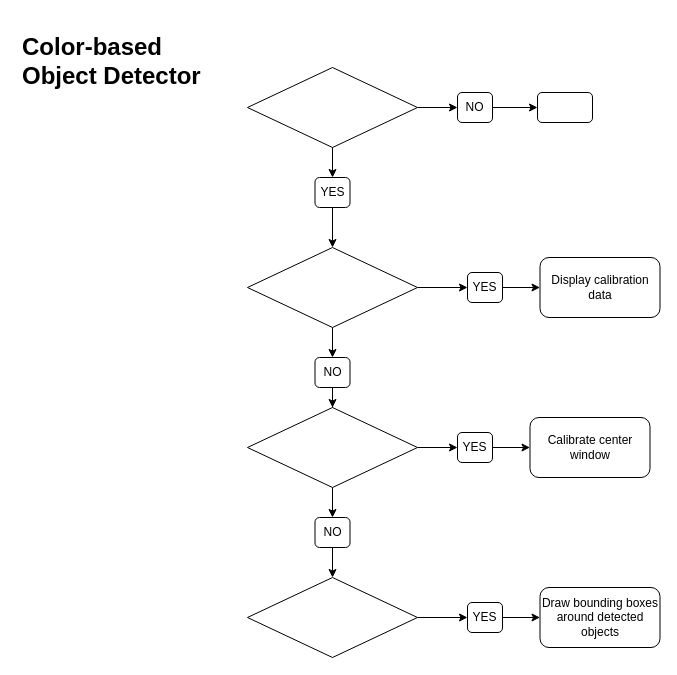
The diagram is 677 pixels wide and 675 high, and some of its shapes have lost their labels. The shapes that lost their labels are listed below. From the top down, each one's centre as x and y in pixels, then its label:
At pixel 332 107: "Valid input arguments?".
At pixel 564 107: "EXIT".
At pixel 332 287: "Show Calibration?".
At pixel 332 447: "Calibrate?".
At pixel 332 617: "Detect?".
